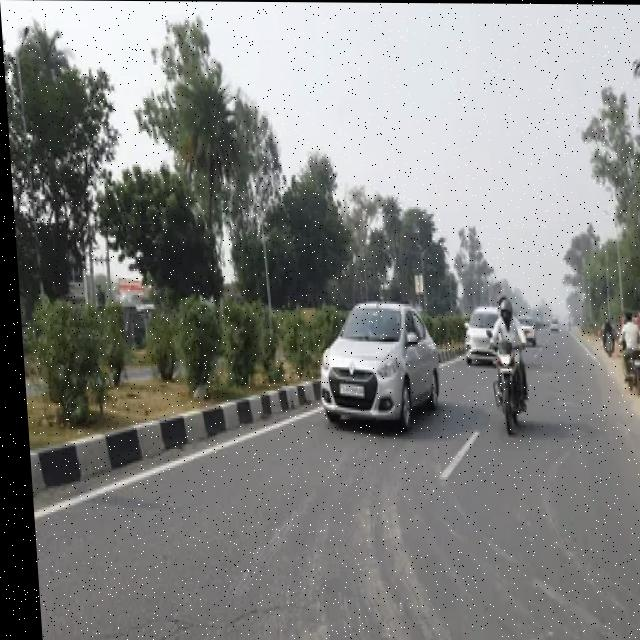plate: (332, 376, 361, 398)
